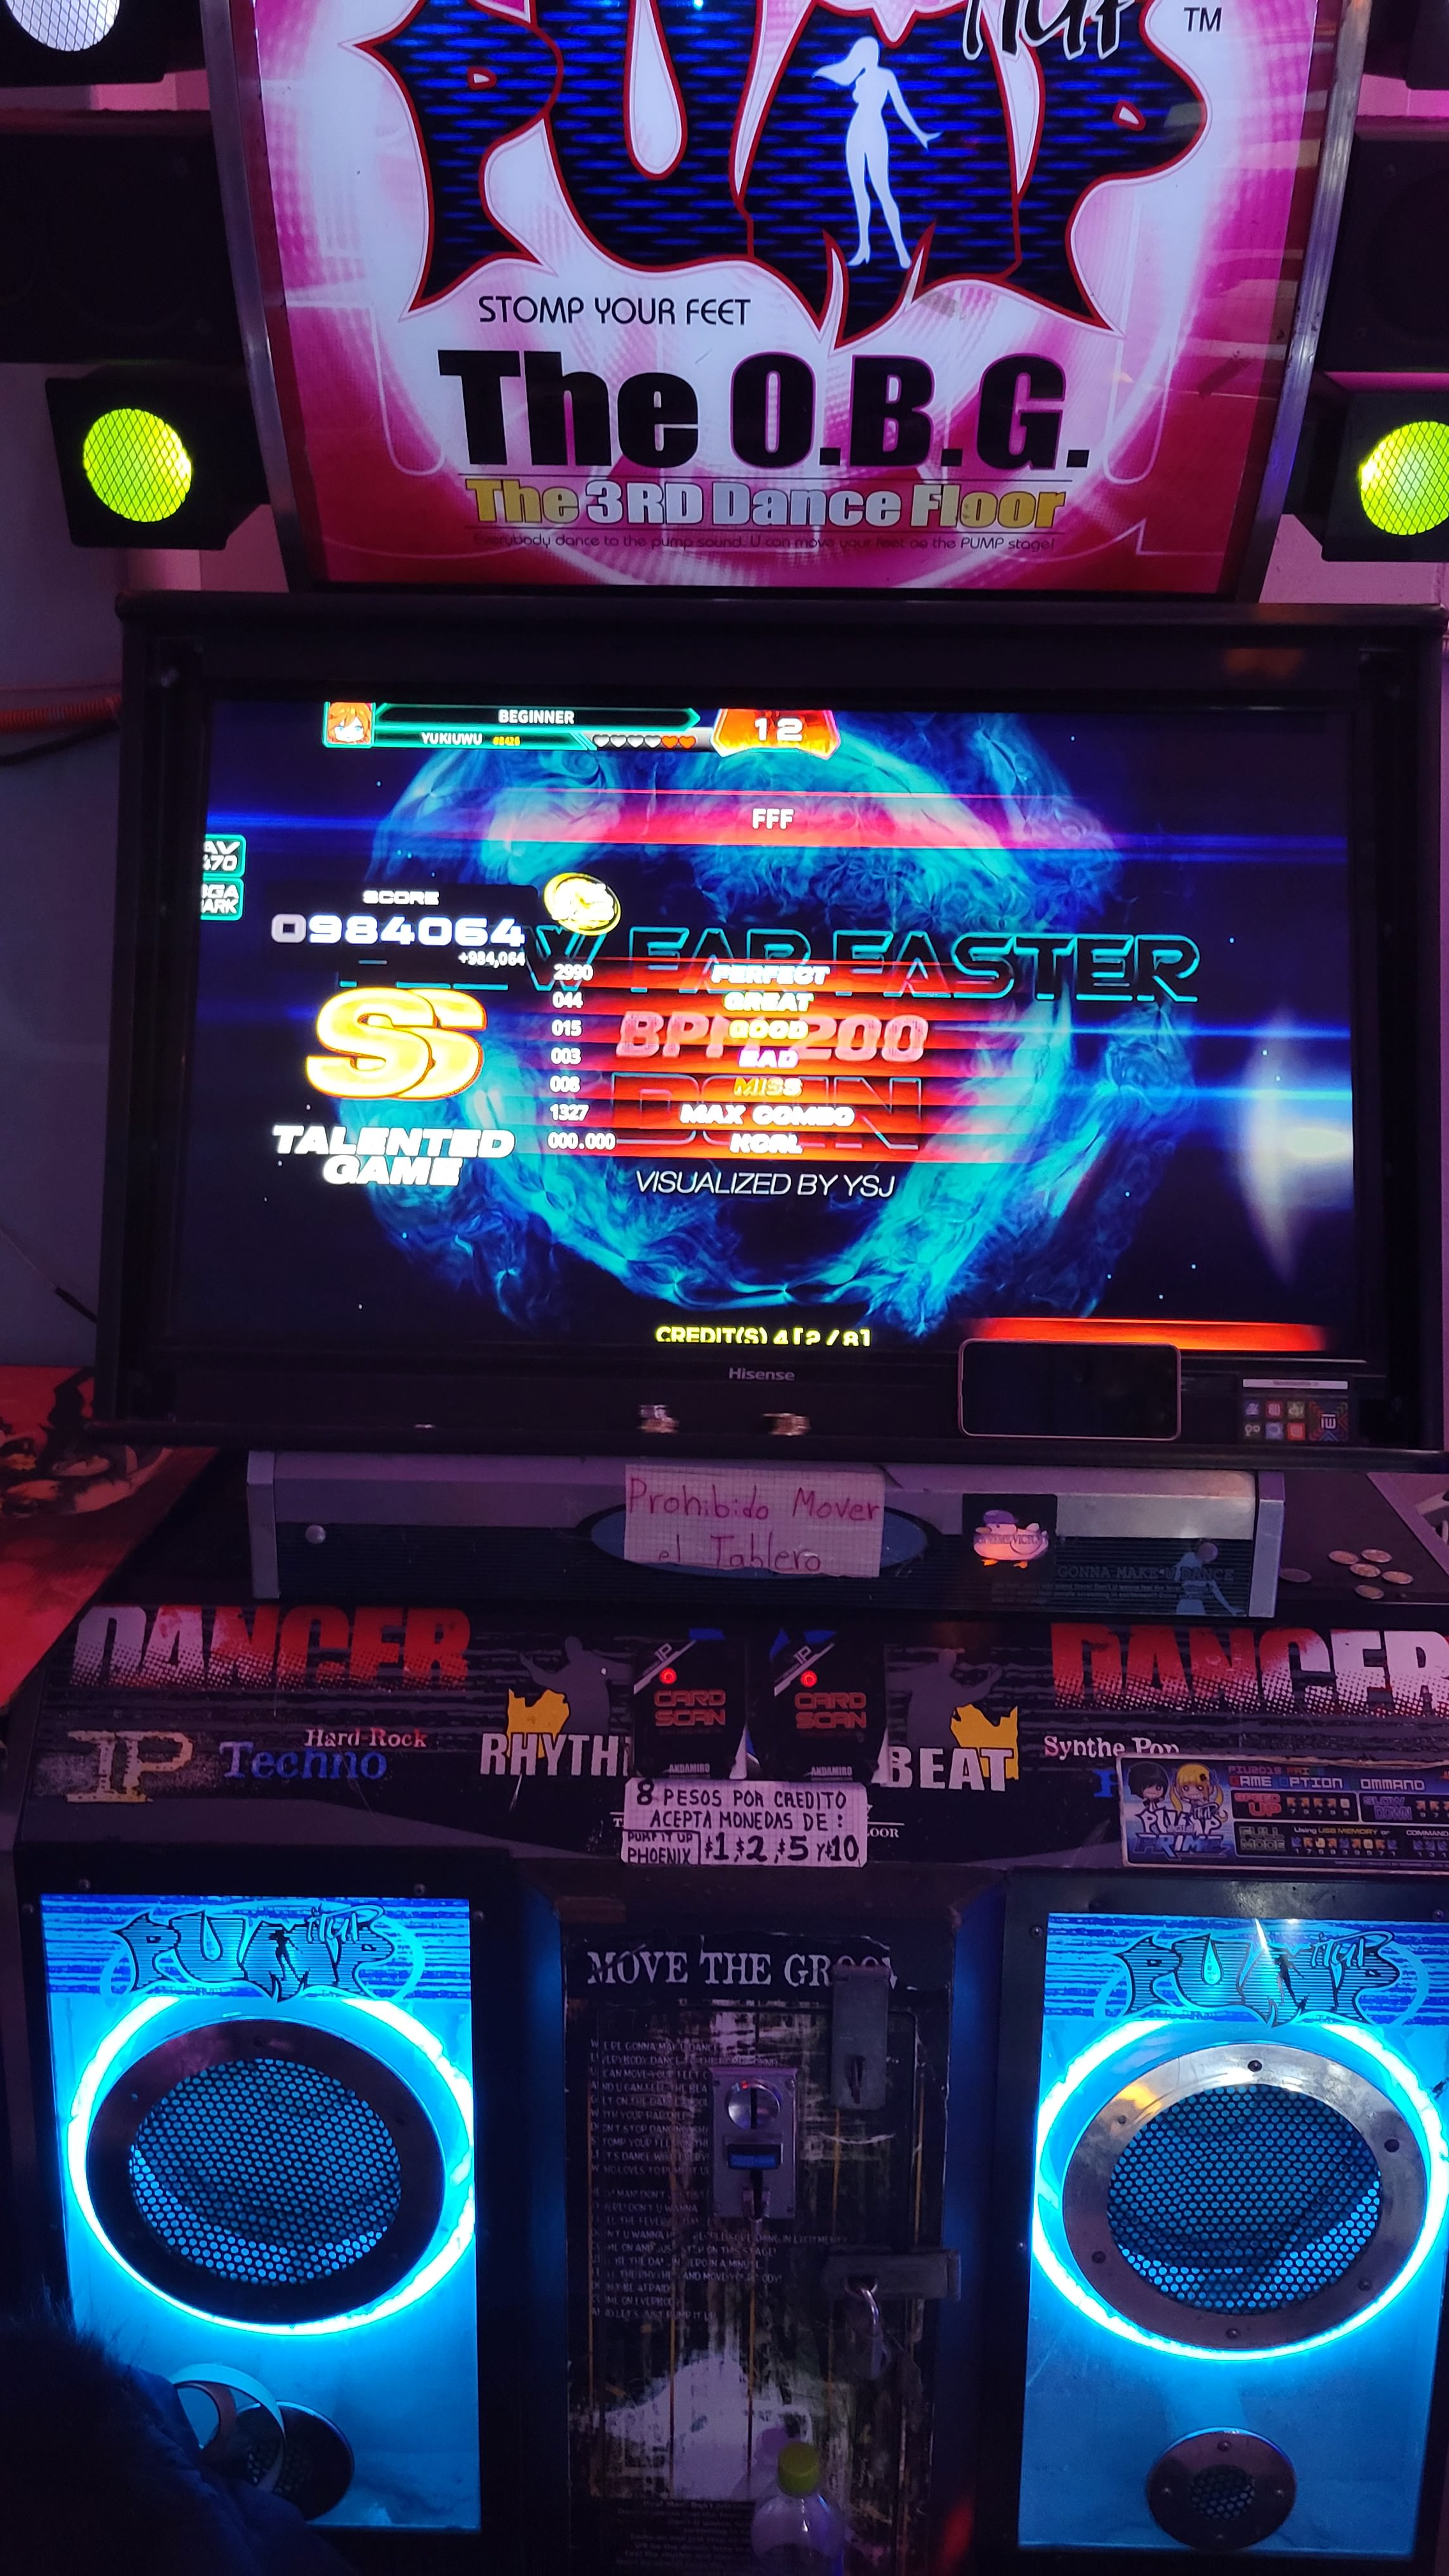difficulty: (525, 865, 640, 938)
fullscore: (106, 699, 1399, 1357)
rank: (287, 980, 511, 1139)
score: (272, 879, 538, 977)
song_name: (610, 780, 901, 844)
